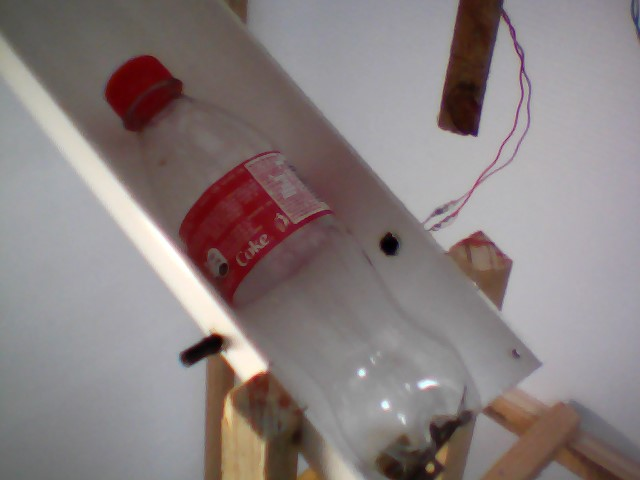plastico: (94, 43, 491, 480)
